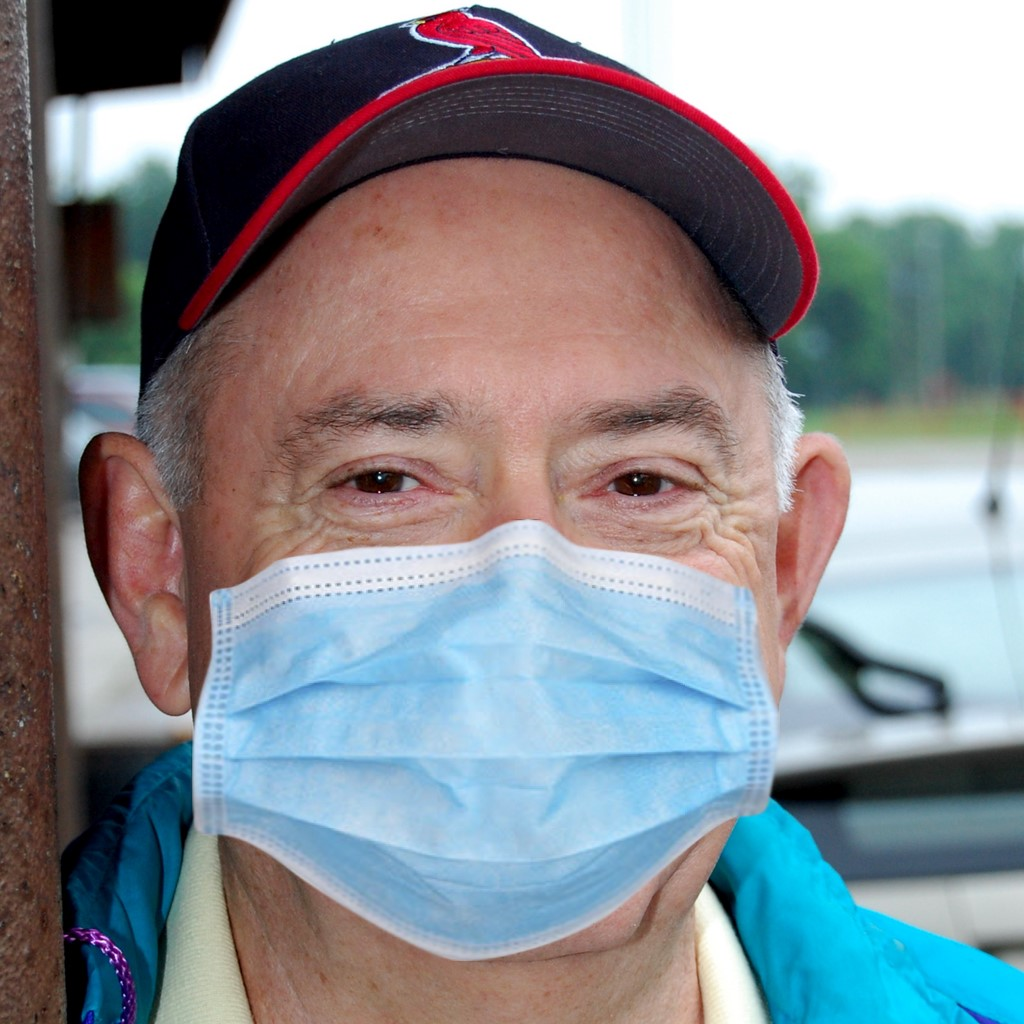con_mascara: (186, 172, 796, 934)
